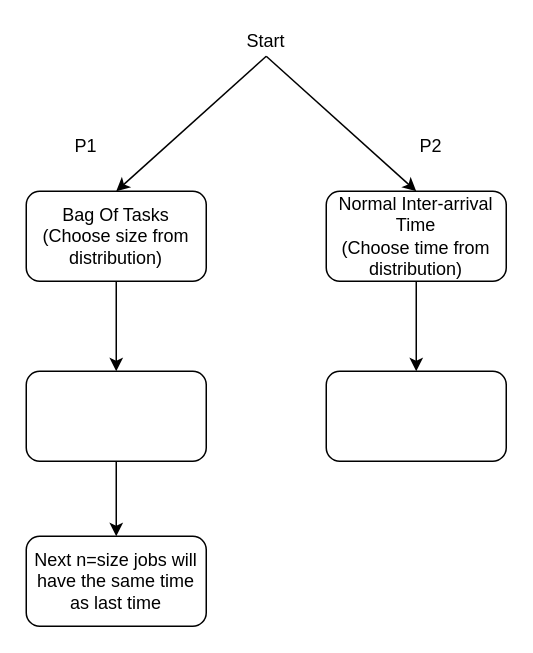
Image size: 533x653. Some labels were removed from this diagram. The shapes that lost their labels are listed below. From the top down, each one's box as (x1, y1, x2, y2) in pixels, then its label:
(25, 370, 206, 461): size = dist size
(325, 370, 506, 461): time = dist time (round time to nearest int)
